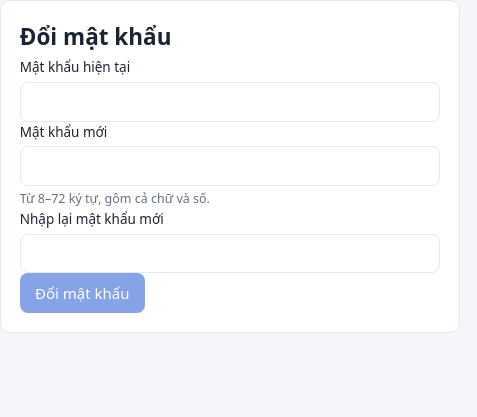
it: ChangePasswordPage › confirms a voluntary change and clears the form
The width and height of the screenshot is (477, 417).
Type "Matkhau123" into the password field labelled "Mật khẩu hiện tại". click: point(230, 102)
box: [20,82,440,122]
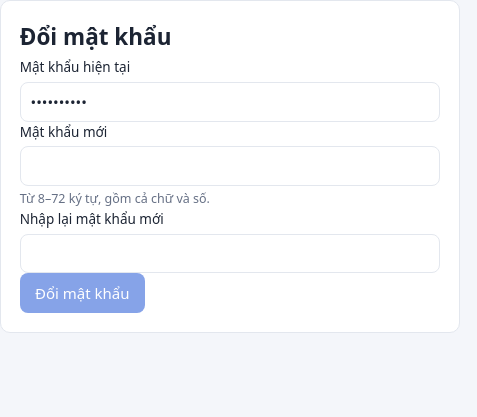
Type "MatKhauMoi456" into the password field labelled "Mật khẩu mới Từ 8–72 ký tự, gồm cả chữ và số.". click: point(230, 166)
box: [20,146,440,186]
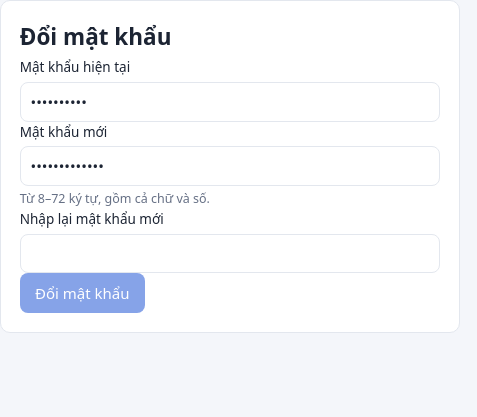
Type "MatKhauMoi456" into the password field labelled "Nhập lại mật khẩu mới". click: point(230, 254)
box: [20,234,440,273]
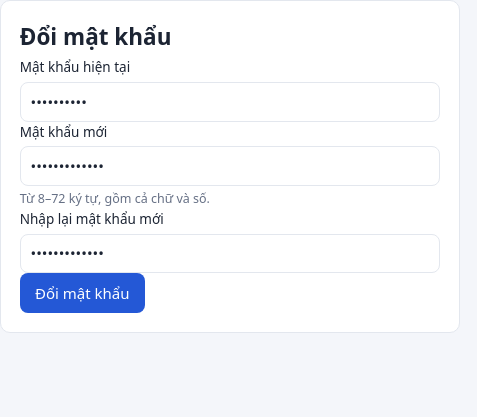
Click the button "Đổi mật khẩu". click: point(82, 293)
box: [20,273,145,313]
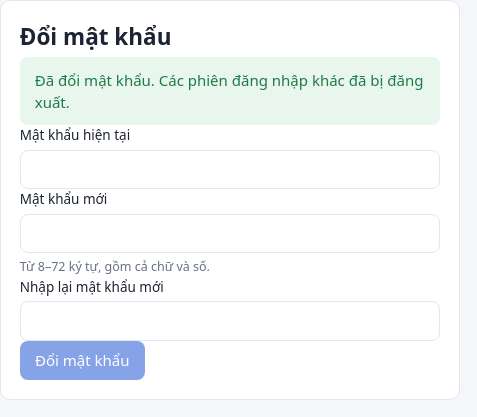
Now the text "Đã đổi mật khẩu. Các phiên đăng nhập khác đã bị đăng xuất." is shown, box [20,57,440,125]
Now the password field labelled "Mật khẩu hiện tại" is empty, box [20,150,440,189]
